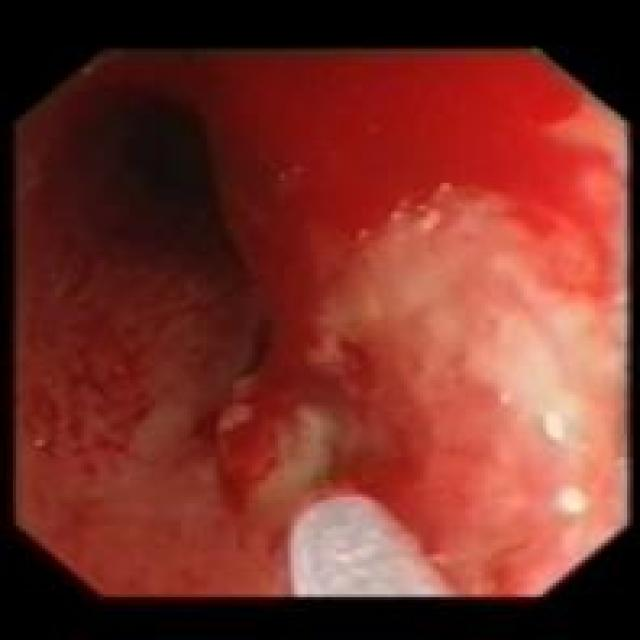blood: (234, 321, 405, 509)
contrast: (103, 90, 240, 282)
instrument: (282, 456, 454, 595)
saturation: (432, 56, 623, 519)
